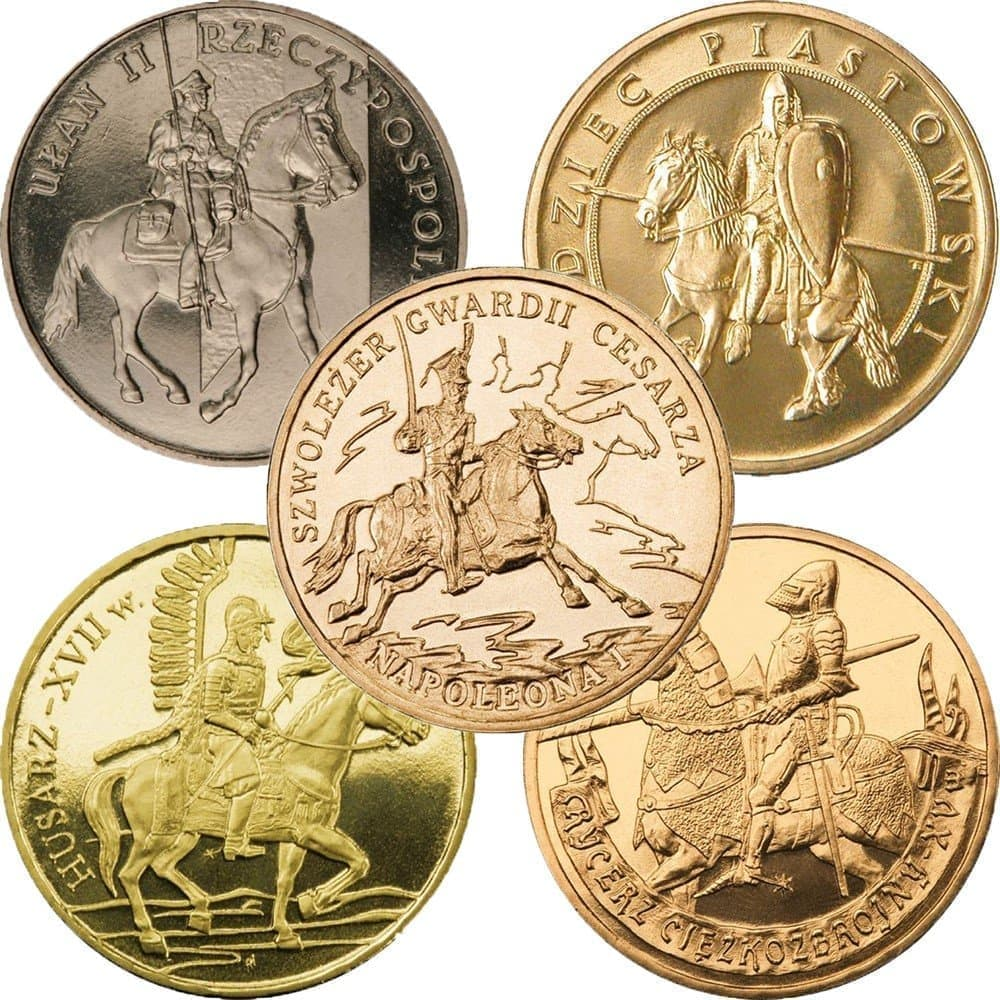coin: (513, 505, 1000, 1000), (1, 518, 480, 1000), (1, 1, 478, 476), (273, 262, 734, 751), (517, 11, 1000, 474)
